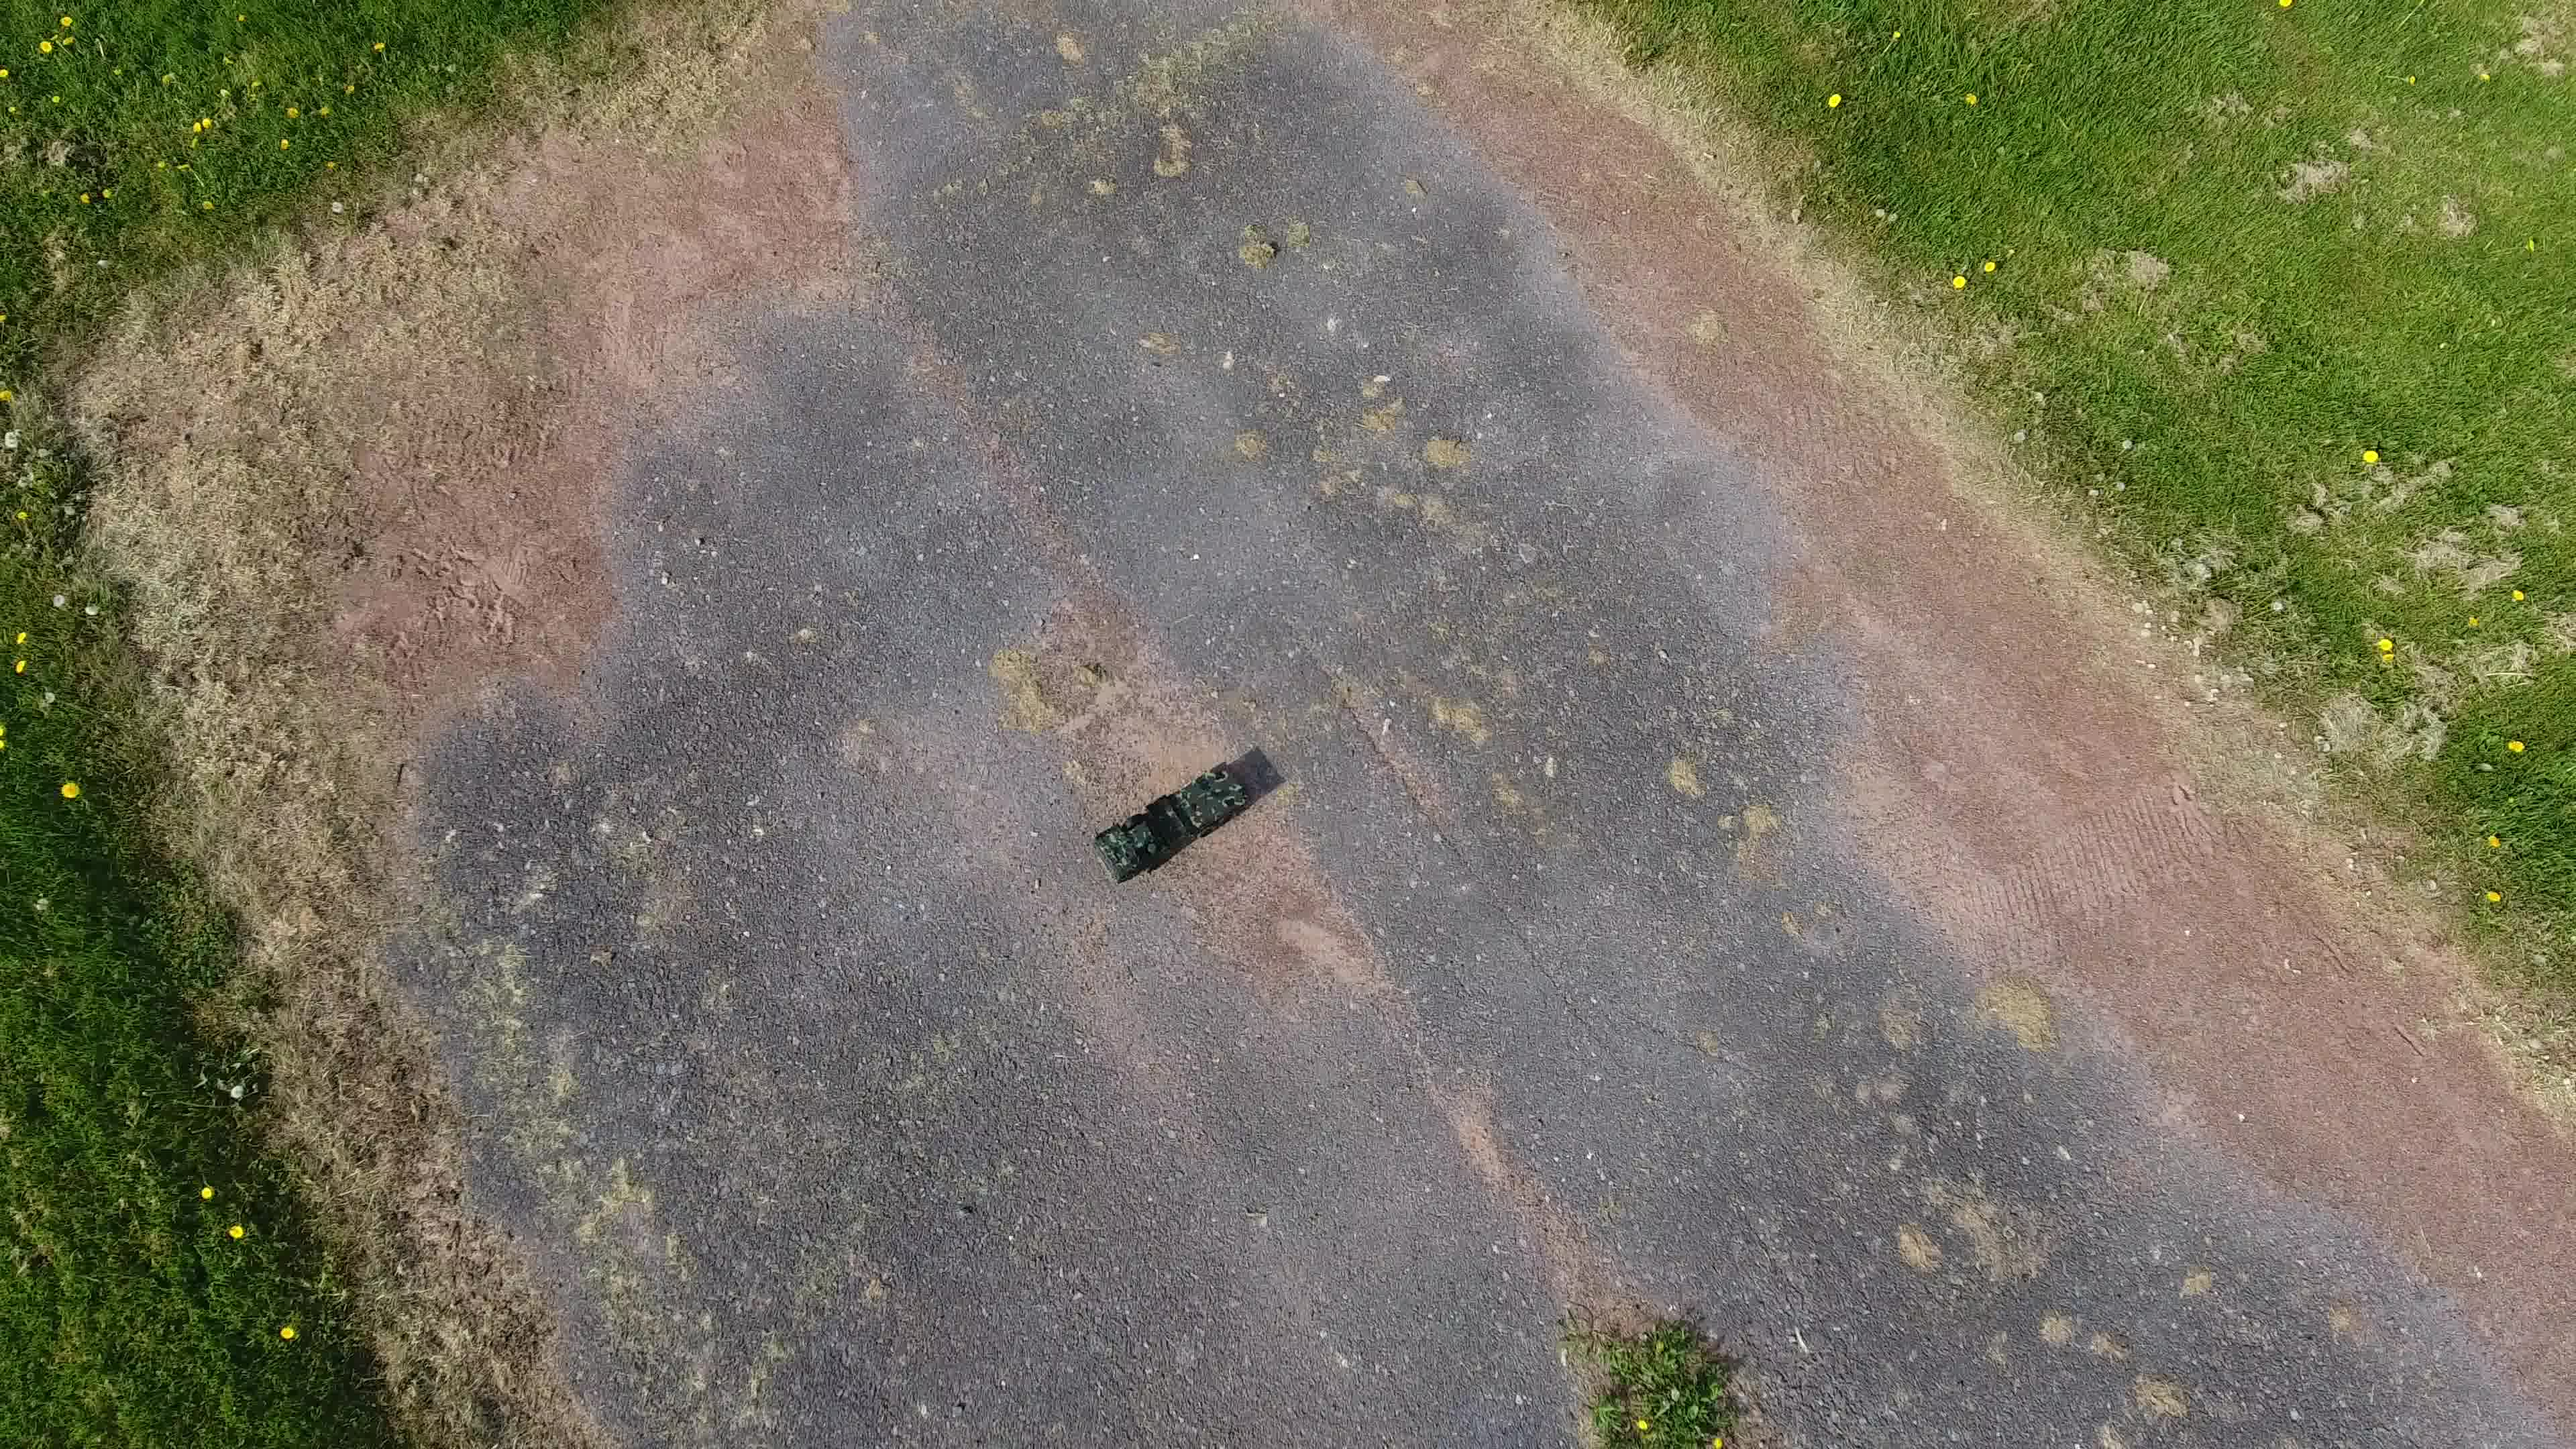transporter9_camo: (1088, 761, 1253, 888)
